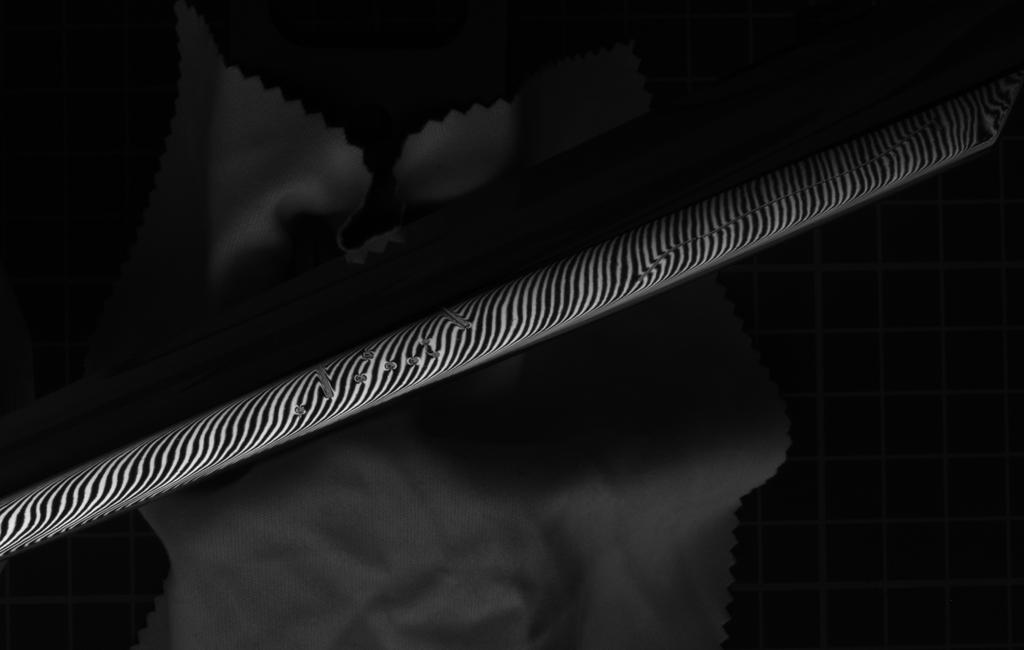Pierced: (287, 399, 311, 421), (351, 370, 371, 389), (403, 353, 424, 370), (381, 358, 400, 375), (362, 350, 379, 362)
Scratch: (620, 117, 951, 295), (437, 308, 491, 338), (309, 357, 336, 404), (420, 329, 442, 365)
